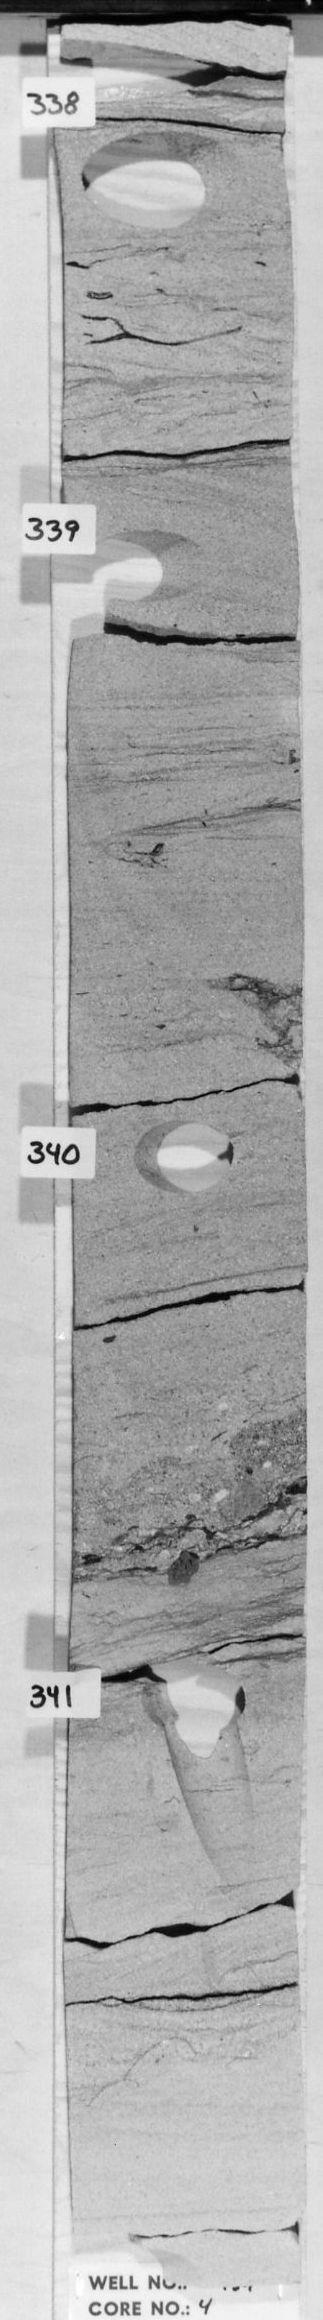hplug: (64, 36, 230, 111), (96, 527, 218, 607), (136, 1651, 259, 1730), (127, 1116, 246, 1196)
scal: (74, 124, 240, 237)
vplug: (163, 1731, 268, 1882)
